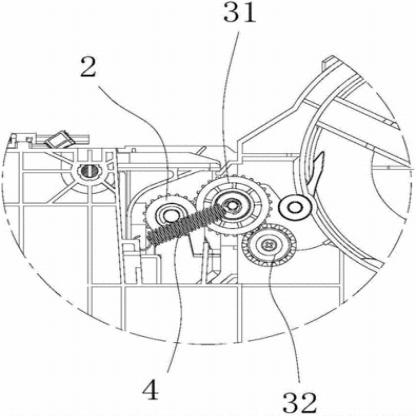FOD: (142, 191, 204, 237)
